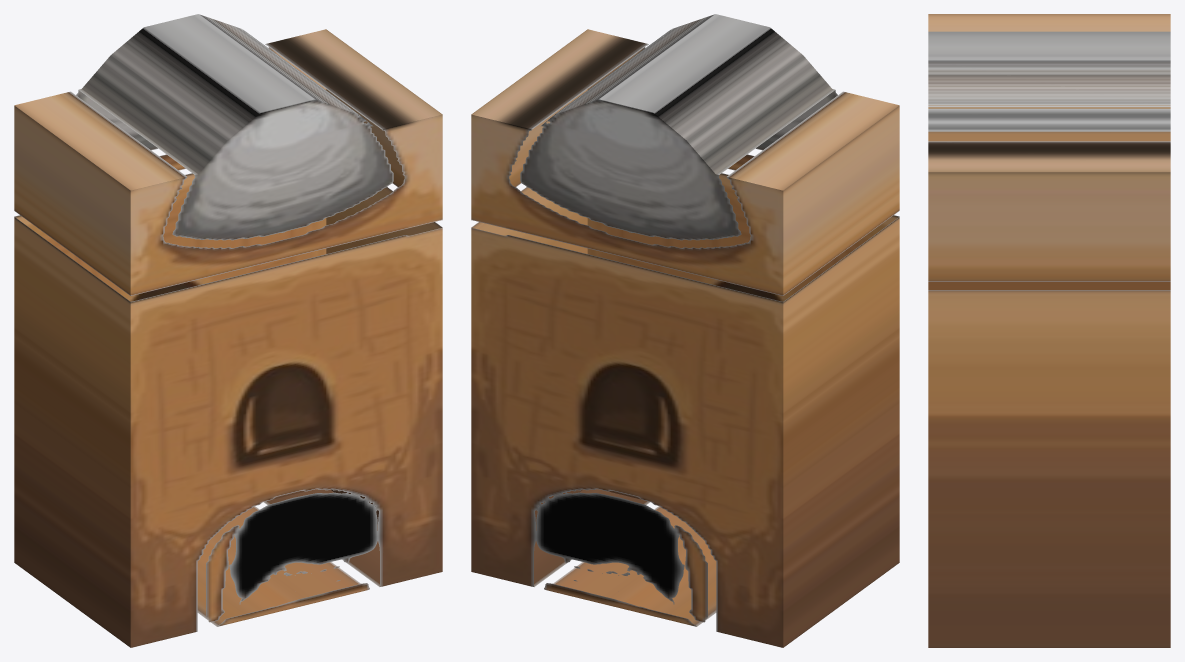
Rendered from house1.fbx.
3 views of the same model, side by side, from view 1: azimuth 30°, elevation 25°; view 2: azimuth 150°, elevation 25°; view 3: azimuth 270°, elevation 25° (orthographic). The views are drawn at different scales.
Visible parts, largest first — view 1: Plane; view 2: Plane; view 3: Plane.
Boxes of the visible parts, x1,y1,x2,y2 form: Plane: (14,14,442,647); Plane: (471,14,899,647); Plane: (928,14,1170,647).
Size of the model in its own units: 185 by 286 by 120.
